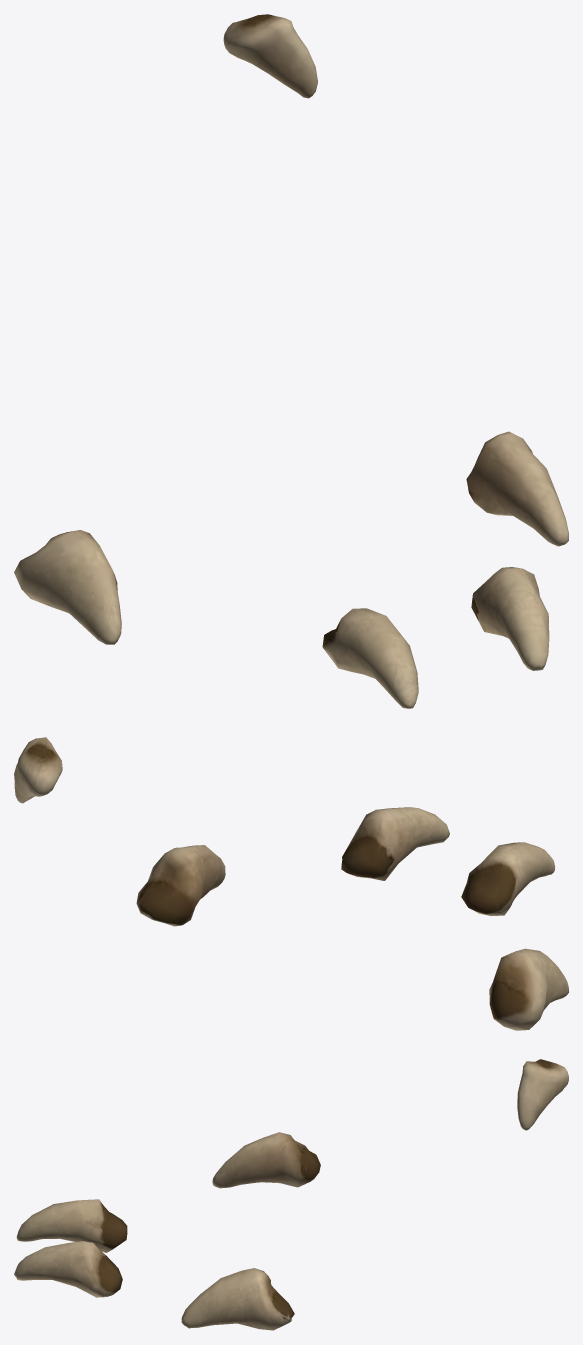
The model's file is Distal_Phalanges.glb.
3 renders of one model, top to bottom at view 1: azimuth 30°, elevation 25°; view 2: azimuth 150°, elevation 25°; view 3: azimuth 270°, elevation 25°, orthographic. The views are drawn at different scales.
Visible parts, largest first — view 1: polySurface48, polySurface45, polySurface47, polySurface46, polySurface44; view 2: polySurface46, polySurface45, polySurface48, polySurface47, polySurface44; view 3: polySurface45, polySurface48, polySurface46, polySurface47, polySurface44.
Part boxes in pixels (left/top/right/bottom): polySurface48: left=14, top=530, right=121, bottom=644; polySurface45: left=466, top=431, right=568, bottom=546; polySurface47: left=322, top=608, right=418, bottom=708; polySurface46: left=471, top=567, right=549, bottom=670; polySurface44: left=223, top=14, right=317, bottom=98; polySurface46: left=341, top=807, right=449, bottom=880; polySurface45: left=136, top=845, right=225, bottom=926; polySurface48: left=489, top=948, right=568, bottom=1030; polySurface47: left=461, top=842, right=554, bottom=915; polySurface44: left=14, top=737, right=62, bottom=803; polySurface45: left=181, top=1268, right=294, bottom=1330; polySurface48: left=212, top=1132, right=320, bottom=1188; polySurface46: left=14, top=1241, right=122, bottom=1297; polySurface47: left=16, top=1199, right=127, bottom=1252; polySurface44: left=517, top=1059, right=568, bottom=1130.
Size of the model in its own units: 48.83 by 35.84 by 68.35.
Materials: 1 (1 with a texture image).
